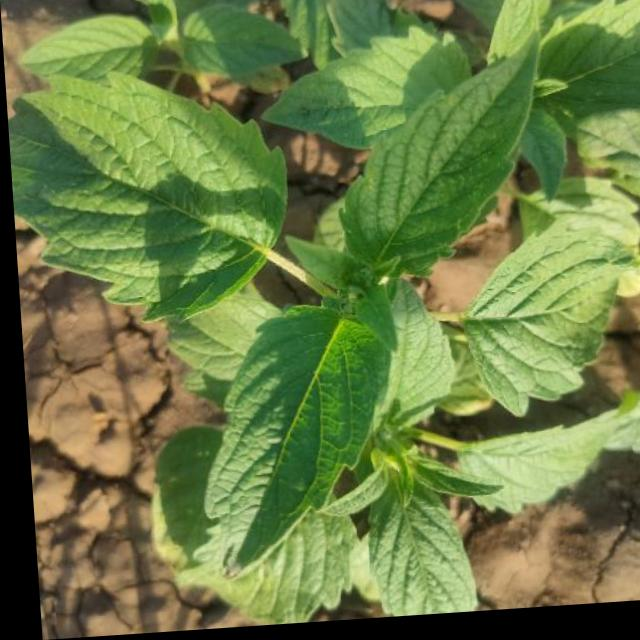crop: (11, 0, 640, 599)
